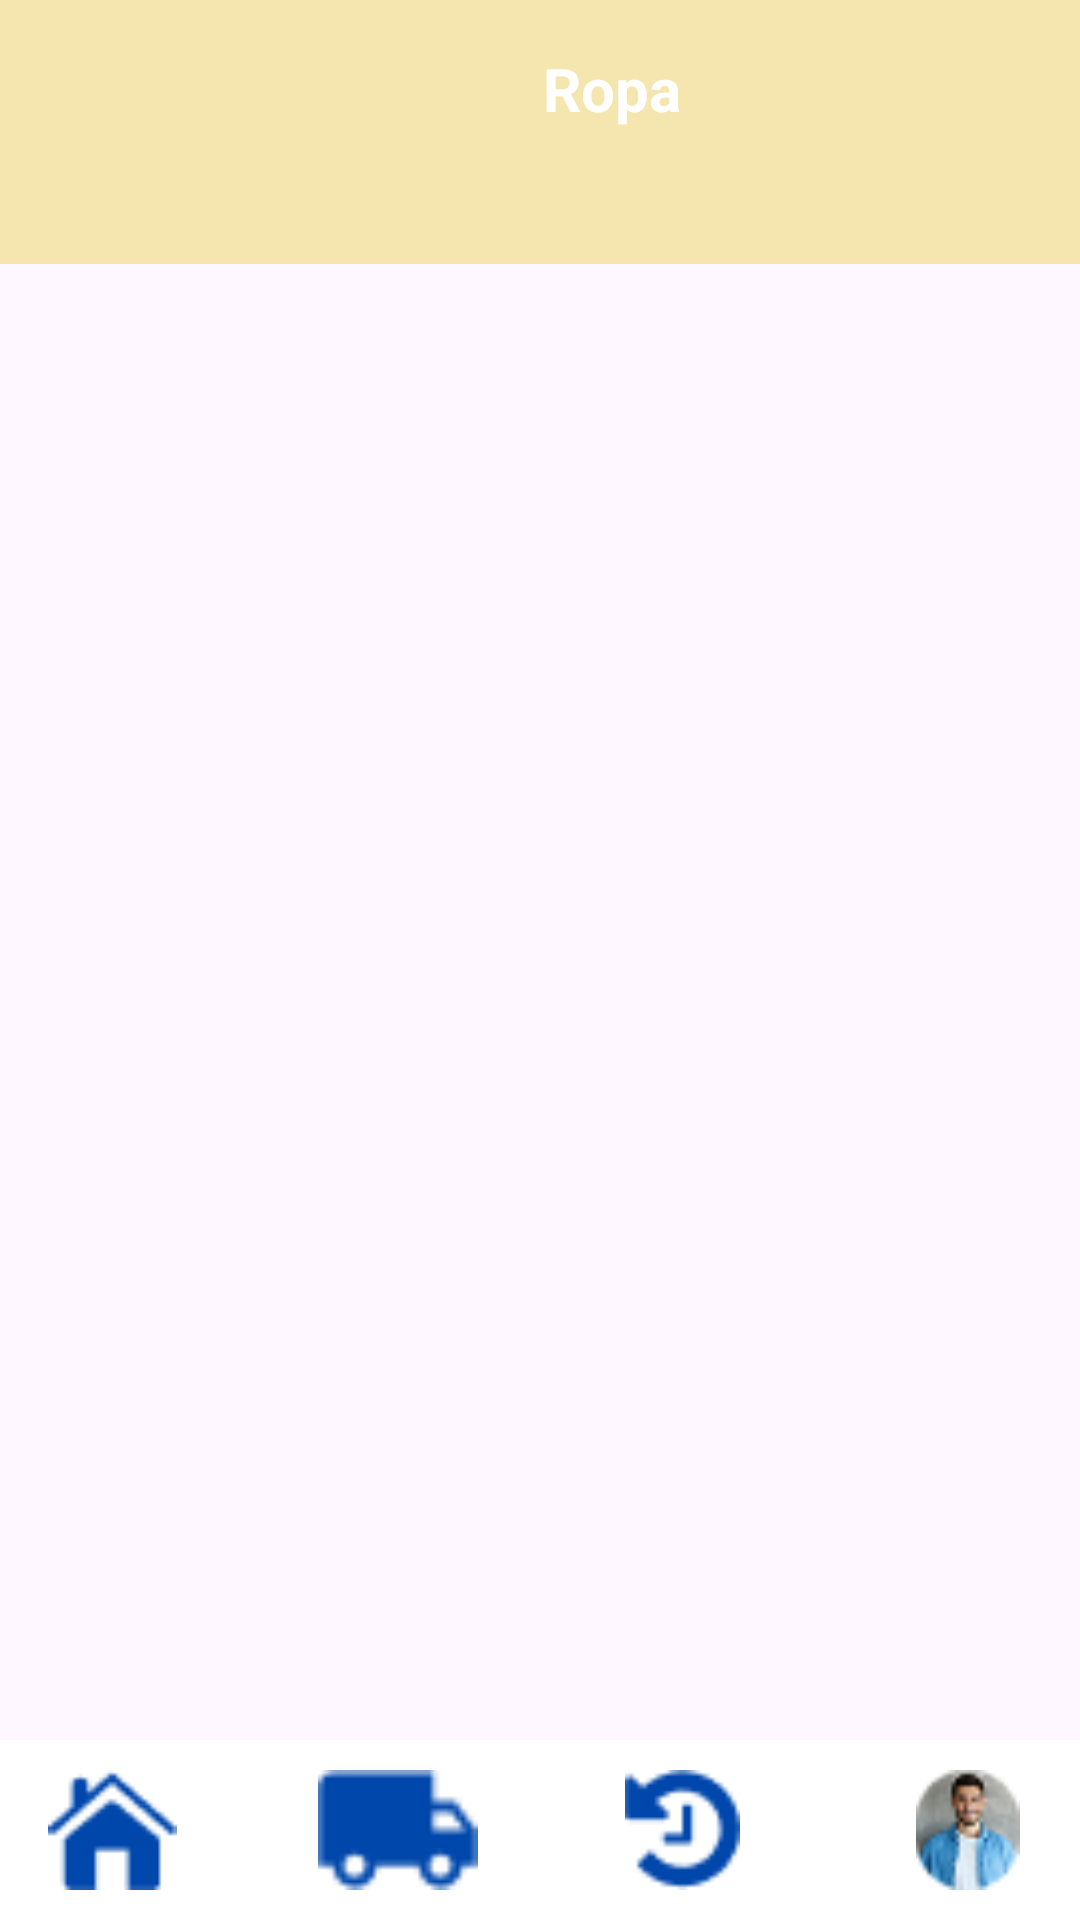

Named icons in this screenshot (1080w x 1920h) and their centers, point (x, y):
Envíos: point (398, 1830)
Historial: point (682, 1830)
Home: point (112, 1831)
